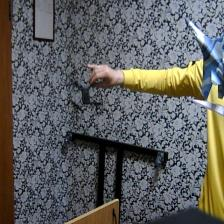drone: (63, 60, 107, 120)
